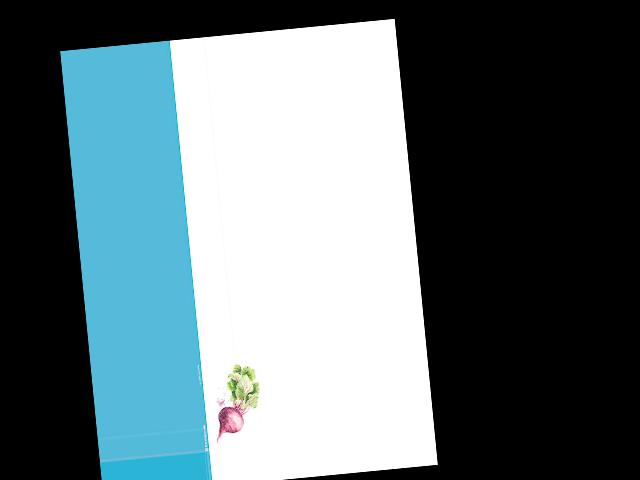beet: (209, 361, 264, 442)
